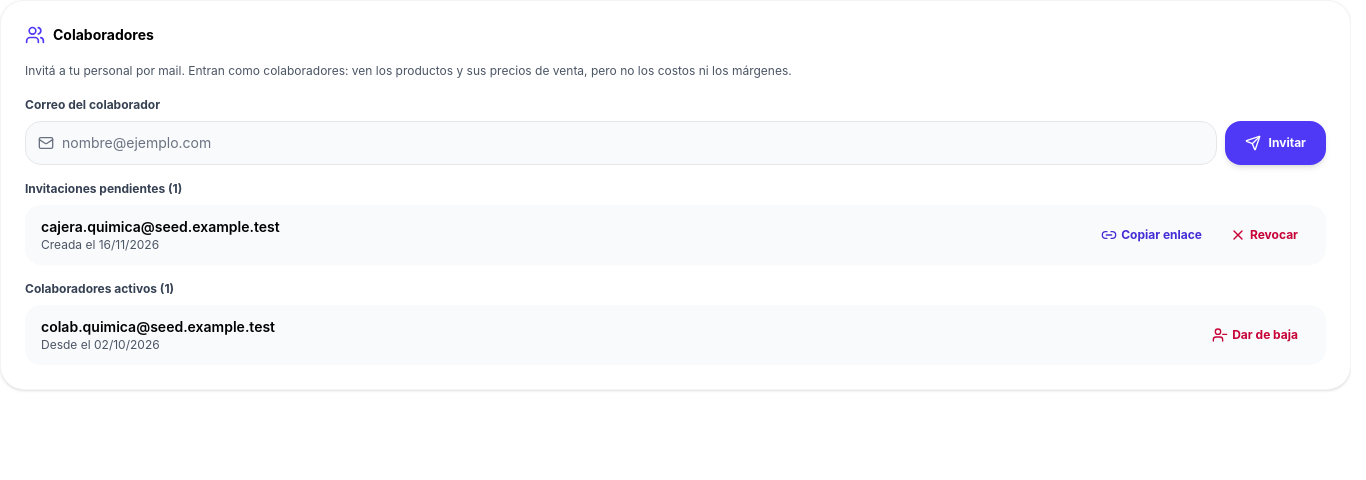
it: CollaboratorsSection (Perfil, solo ADMIN) › si el navegador no deja copiar, muestra el enlace para copiarlo a mano
Expected: the text "cajera.quimica@seed.example.test" is shown, [41,218,280,234]
Click the button named "Copiar enlace de la invitación de cajera.quimica@seed.example.test" at (1152, 234), box [1089,212,1214,256]
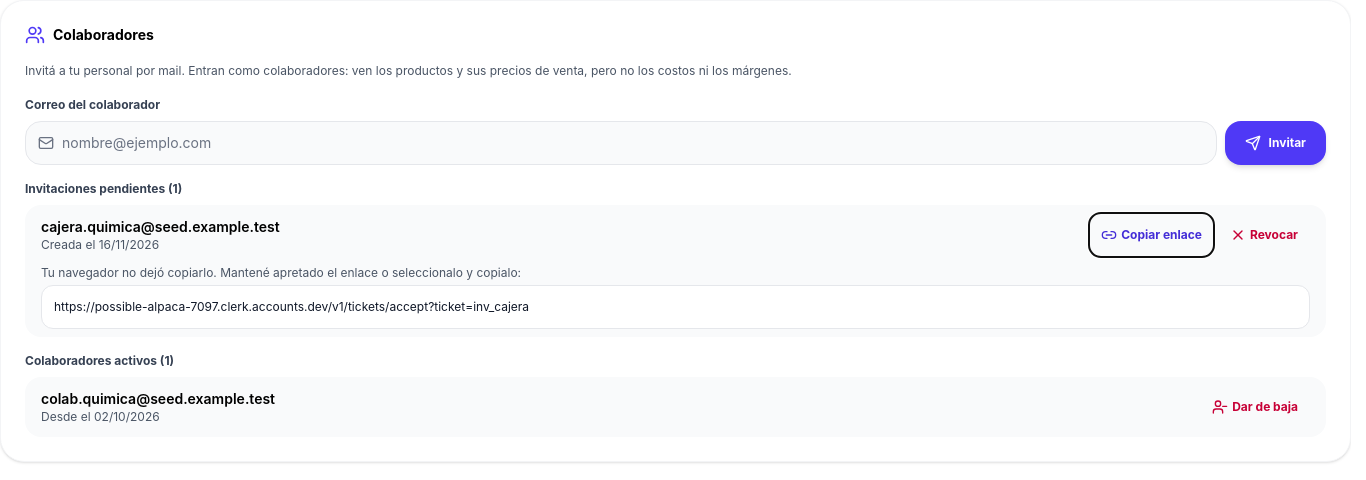
Now the field named "Enlace de la invitación de cajera.quimica@seed.example.test" holds "https://possible-alpaca-7097.clerk.accounts.dev/v1/tickets/accept?ticket=inv_cajera", box [41,284,1310,328]
